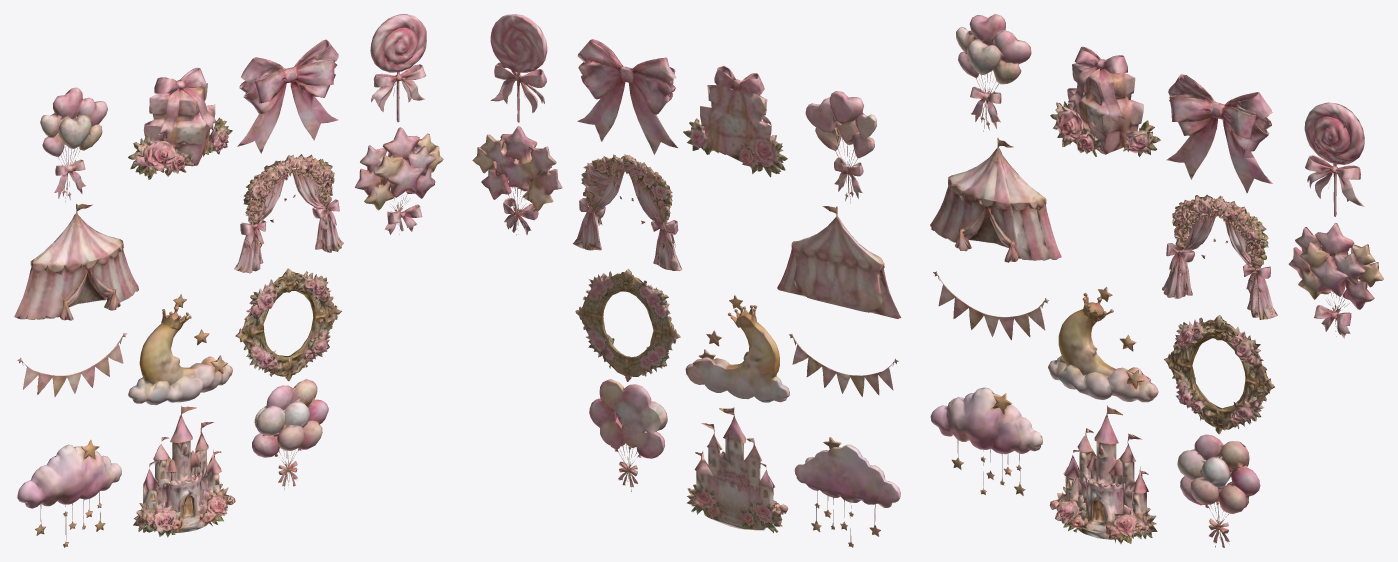
The picture shows the model from 3 angles, left to right: view 1: azimuth 30°, elevation 25°; view 2: azimuth 150°, elevation 25°; view 3: azimuth 330°, elevation 25°; orthographic projection. The views are drawn at different scales.
Parts seen in each view (by area): view 1: Mesh 1, Mesh 7, Mesh 6, Mesh 13, Mesh 11, Mesh 12, Mesh 5, Mesh 16, Mesh 2, Mesh 14, Mesh 17, Mesh 4 (+1 smaller); view 2: Mesh 1, Mesh 7, Mesh 6, Mesh 13, Mesh 11, Mesh 12, Mesh 16, Mesh 5, Mesh 14, Mesh 2, Mesh 17, Mesh 4 (+1 smaller); view 3: Mesh 1, Mesh 7, Mesh 6, Mesh 13, Mesh 11, Mesh 12, Mesh 16, Mesh 5, Mesh 2, Mesh 14, Mesh 4, Mesh 17 (+1 smaller).
Part boxes in pixels (<box>): Mesh 1: <box>14,203,138,320</box>; Mesh 7: <box>133,405,235,537</box>; Mesh 6: <box>128,67,232,179</box>; Mesh 13: <box>237,39,338,153</box>; Mesh 11: <box>234,154,343,273</box>; Mesh 12: <box>235,268,341,381</box>; Mesh 5: <box>128,294,232,405</box>; Mesh 16: <box>355,127,443,234</box>; Mesh 2: <box>17,440,121,547</box>; Mesh 14: <box>252,379,328,489</box>; Mesh 17: <box>370,14,426,122</box>; Mesh 4: <box>40,87,107,201</box>; Mesh 1: <box>777,206,901,318</box>; Mesh 7: <box>686,407,788,532</box>; Mesh 6: <box>683,66,787,177</box>; Mesh 13: <box>577,39,677,154</box>; Mesh 11: <box>572,154,682,270</box>; Mesh 12: <box>575,268,680,381</box>; Mesh 16: <box>472,126,562,235</box>; Mesh 5: <box>685,295,789,402</box>; Mesh 14: <box>589,379,667,491</box>; Mesh 2: <box>794,437,900,547</box>; Mesh 17: <box>490,14,547,122</box>; Mesh 4: <box>805,91,876,203</box>; Mesh 1: <box>930,138,1061,262</box>; Mesh 7: <box>1049,405,1157,544</box>; Mesh 6: <box>1050,46,1160,156</box>; Mesh 13: <box>1166,74,1272,193</box>; Mesh 11: <box>1162,194,1277,319</box>; Mesh 12: <box>1164,315,1274,434</box>; Mesh 16: <box>1288,223,1383,338</box>; Mesh 5: <box>1048,287,1158,402</box>; Mesh 2: <box>930,387,1042,495</box>; Mesh 14: <box>1177,434,1260,547</box>; Mesh 4: <box>956,14,1031,131</box>; Mesh 17: <box>1304,102,1364,216</box>.
Bounding box in the file's own units: 1.84 × 1.9 × 0.1309.
13 materials, 13 textured.
